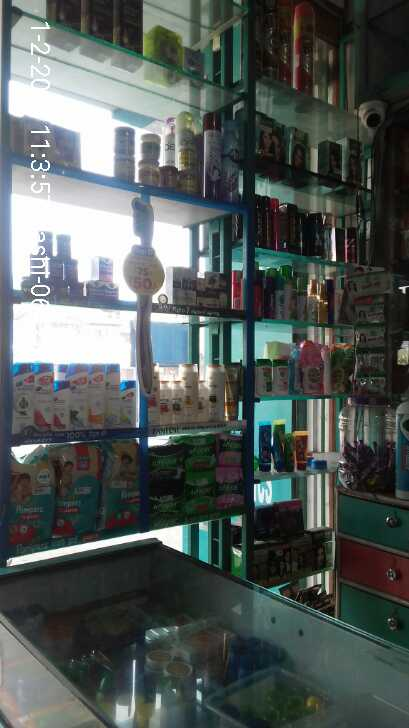beauty: (13, 364, 33, 434), (69, 363, 89, 428), (180, 366, 200, 425), (36, 364, 52, 431), (91, 366, 105, 428), (108, 364, 121, 428), (208, 368, 224, 419), (55, 379, 69, 428), (148, 375, 161, 426), (122, 380, 134, 428), (161, 384, 175, 425), (181, 269, 196, 306), (168, 269, 181, 305)
pharmacy: (49, 448, 97, 534), (12, 464, 52, 543), (100, 446, 139, 524), (147, 445, 185, 492), (176, 439, 216, 466), (151, 498, 183, 525), (219, 436, 243, 465), (187, 469, 216, 490), (187, 495, 214, 514), (218, 491, 245, 508), (219, 469, 243, 487), (97, 258, 113, 282), (89, 283, 102, 301), (105, 285, 117, 302)
